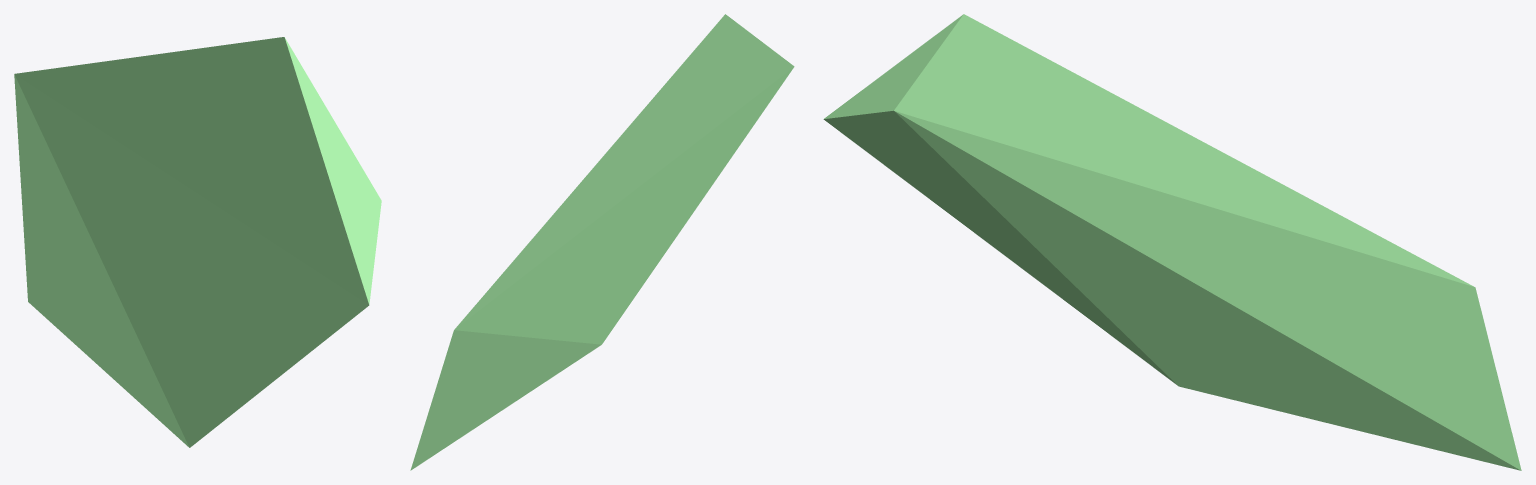
File: dvkr_robot_L3_sx_respondable_TOOL2_coll_7.dae
3 renders of one model, left to right at view 1: azimuth 30°, elevation 25°; view 2: azimuth 150°, elevation 25°; view 3: azimuth 270°, elevation 25°, orthographic. The views are drawn at different scales.
Visible parts, largest first — view 1: Node_0000023515115D20; view 2: Node_0000023515115D20; view 3: Node_0000023515115D20.
Boxes of the visible parts, x1,y1,x2,y2 form: Node_0000023515115D20: (14,37,381,447); Node_0000023515115D20: (410,14,794,470); Node_0000023515115D20: (823,14,1521,470).
Size of the model in its own units: 0.000618 by 0.00176 by 0.00278.
